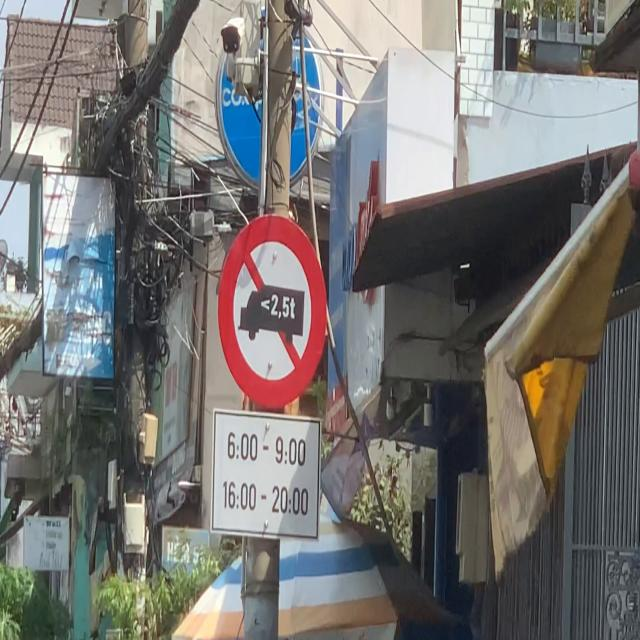Cam con lai: (218, 212, 328, 408)
